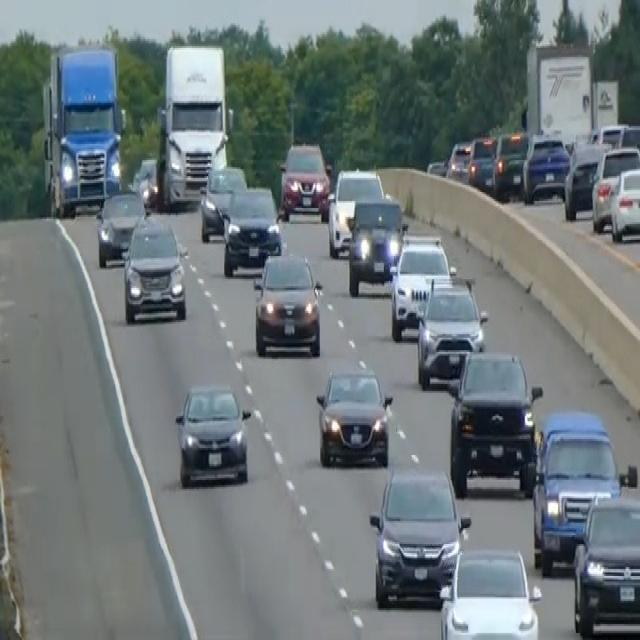car: (531, 407, 623, 576), (368, 462, 470, 608), (571, 484, 639, 638), (438, 544, 542, 638), (415, 272, 487, 389), (315, 362, 393, 468), (174, 381, 251, 487), (252, 249, 323, 357), (121, 212, 187, 324), (389, 235, 453, 341), (346, 194, 405, 295), (221, 183, 282, 276), (327, 165, 384, 258), (590, 142, 639, 233), (279, 138, 330, 220), (95, 186, 146, 266), (198, 162, 247, 242), (521, 130, 570, 204), (563, 138, 608, 218), (491, 128, 529, 197), (609, 164, 639, 242), (467, 134, 497, 190), (131, 155, 159, 206), (445, 137, 472, 183)
jeep: (446, 347, 543, 498)
lorry: (40, 43, 125, 217)
